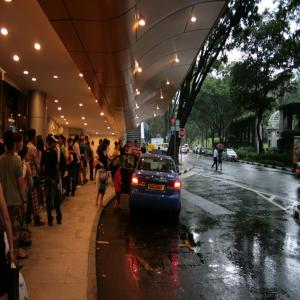Vehicle-registration-plate: (149, 185, 165, 191)
